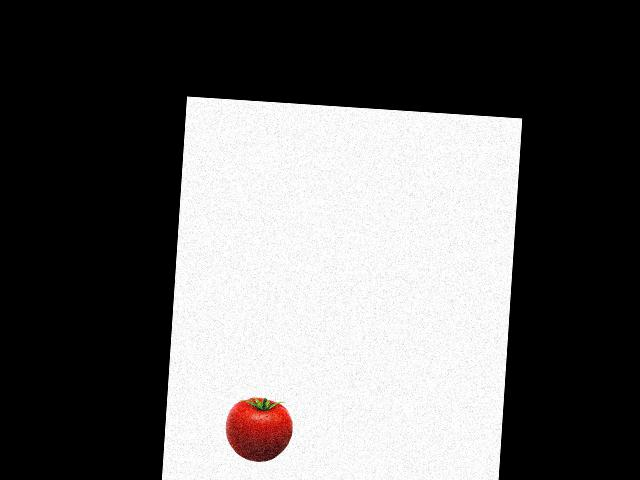tomato: (231, 396, 294, 463)
